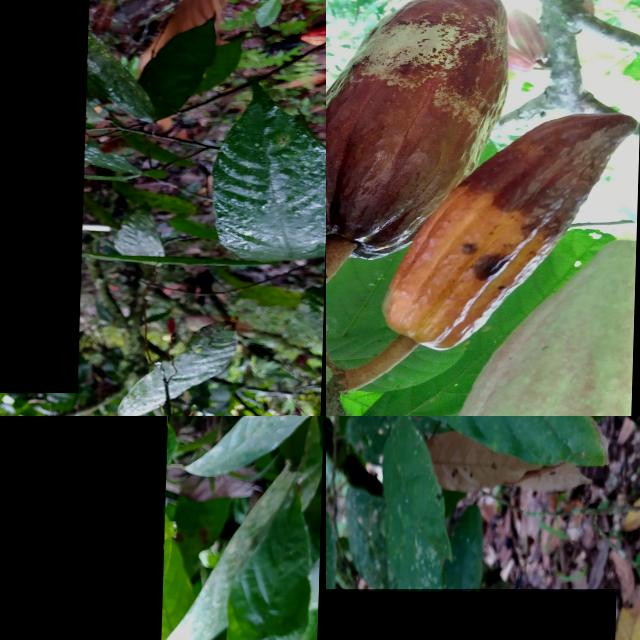Fitoftora: (386, 113, 640, 353), (326, 0, 531, 263), (0, 416, 175, 640)
Monilia: (0, 0, 90, 393)
Sana: (326, 589, 617, 640)
